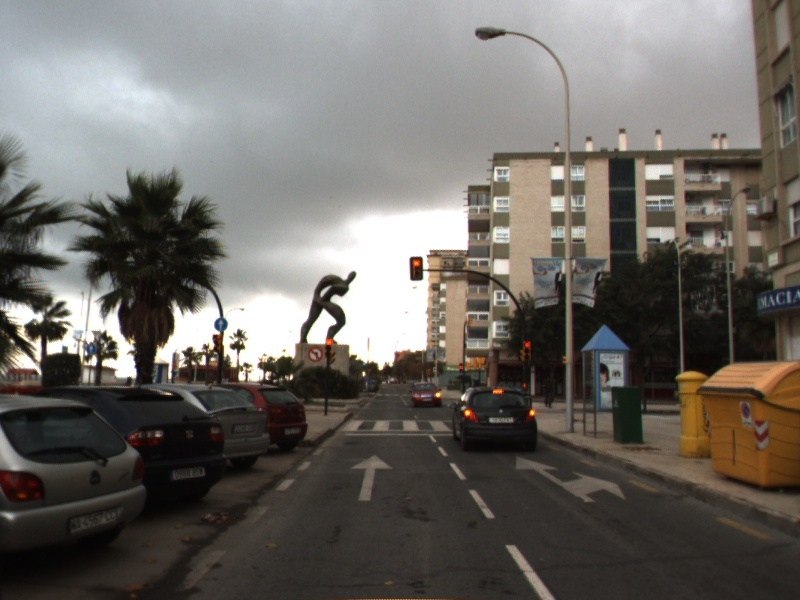STRAIGHT: (349, 452, 395, 503)
STRAIGHT_RIGHT: (514, 454, 628, 504)
